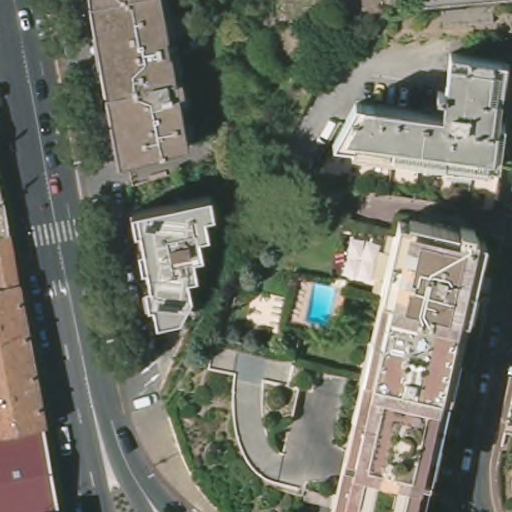pool: (306, 280, 339, 329)
